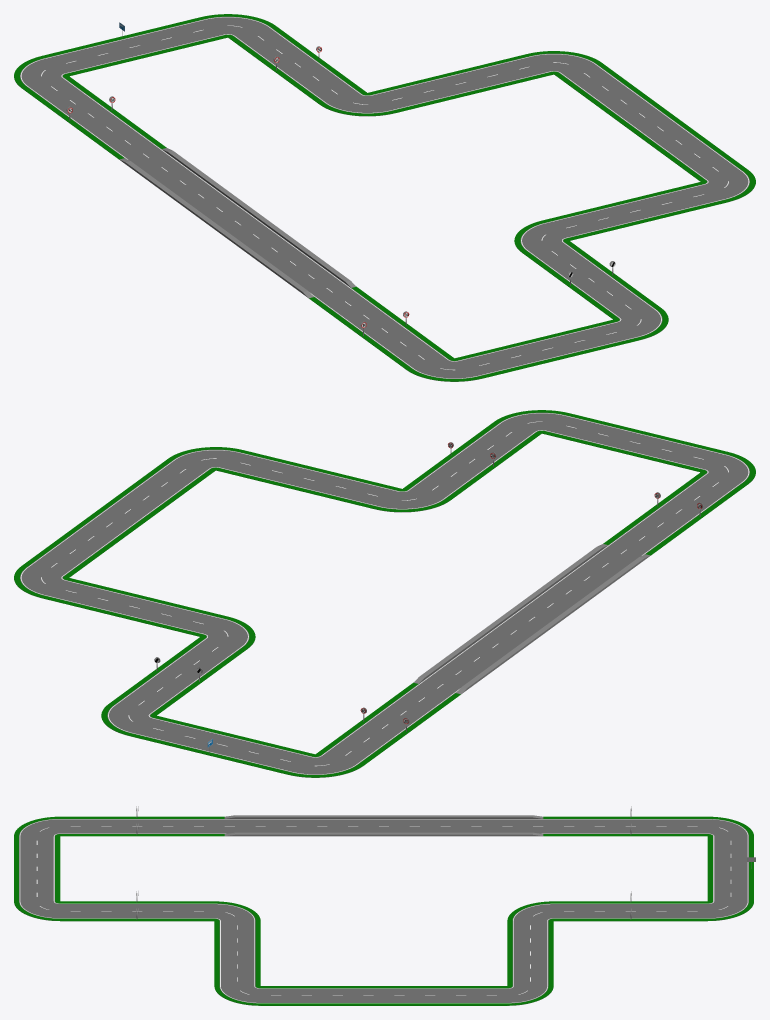
The model's file is simple_environment_v2.dae.
3 views of the same model, one above another, from view 1: azimuth 30°, elevation 25°; view 2: azimuth 150°, elevation 25°; view 3: azimuth 270°, elevation 25° (orthographic). The views are drawn at different scales.
Parts seen in each view (by area): view 1: Cylinder.021, Cylinder.003, Cylinder.001, Cylinder.024, Cylinder.004, Cylinder.022, Cylinder.023, Cylinder.002, Plane.048, Plane.052, Plane.056, Plane.053 (+55 smaller); view 2: Cylinder.023, Cylinder.002, Cylinder.004, Cylinder.022, Cylinder.001, Cylinder.024, Cylinder.021, Cylinder.003, Plane.058, Plane.054, Plane.057, Plane.056 (+55 smaller); view 3: Cylinder.002, Cylinder.003, Cylinder.004, Cylinder.001, Cylinder.022, Cylinder.024, Cylinder.023, Cylinder.021, Plane.054, Plane.052, Plane.053, Plane.058 (+55 smaller).
Part boxes in pixels (x1,y1,x2,y2): Cylinder.021: (320,93,394,116); Cylinder.003: (407,358,481,381); Cylinder.001: (201,14,275,37); Cylinder.024: (701,170,755,201); Cylinder.004: (614,308,668,339); Cylinder.022: (527,51,601,74); Cylinder.023: (514,220,568,252); Cylinder.002: (14,56,68,87); Plane.048: (296,276,362,302); Plane.052: (223,222,288,248); Plane.056: (150,168,215,195); Plane.053: (205,209,270,235); Cylinder.023: (375,489,449,512); Cylinder.002: (288,754,362,777); Cylinder.004: (494,410,568,433); Cylinder.022: (14,566,68,597); Cylinder.001: (101,704,155,735); Cylinder.024: (168,447,242,470); Cylinder.021: (201,616,255,648); Cylinder.003: (701,452,755,483); Plane.058: (407,672,473,698); Plane.054: (481,618,546,644); Plane.057: (426,658,491,685); Plane.056: (444,645,509,671); Cylinder.002: (707,816,753,836); Cylinder.003: (14,816,60,836); Cylinder.004: (14,901,60,920); Cylinder.001: (707,901,753,920); Cylinder.022: (507,986,553,1005); Cylinder.024: (214,986,260,1005); Cylinder.023: (214,901,260,920); Cylinder.021: (507,901,553,920); Plane.054: (399,815,430,836); Plane.052: (337,815,368,836); Plane.053: (368,815,399,836); Plane.058: (522,815,553,836).
Bounding box in the file's own units: 87 × 144 × 2.5.
269 materials, 1 textured.
